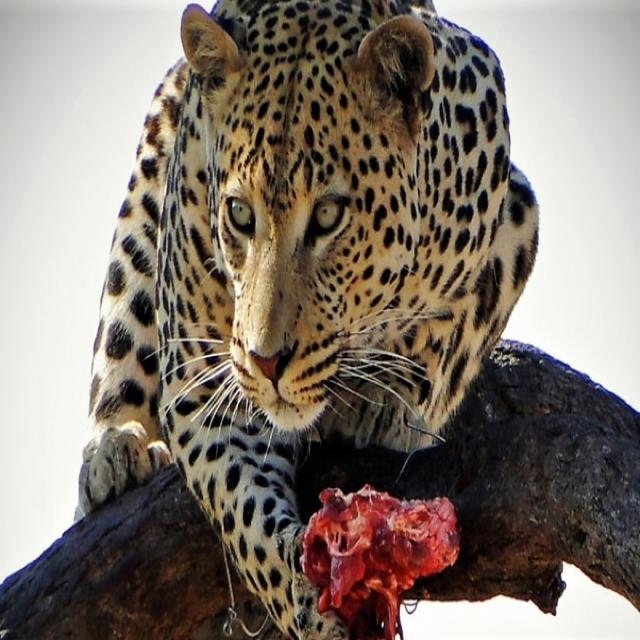Carnivorous: (79, 0, 539, 640)
